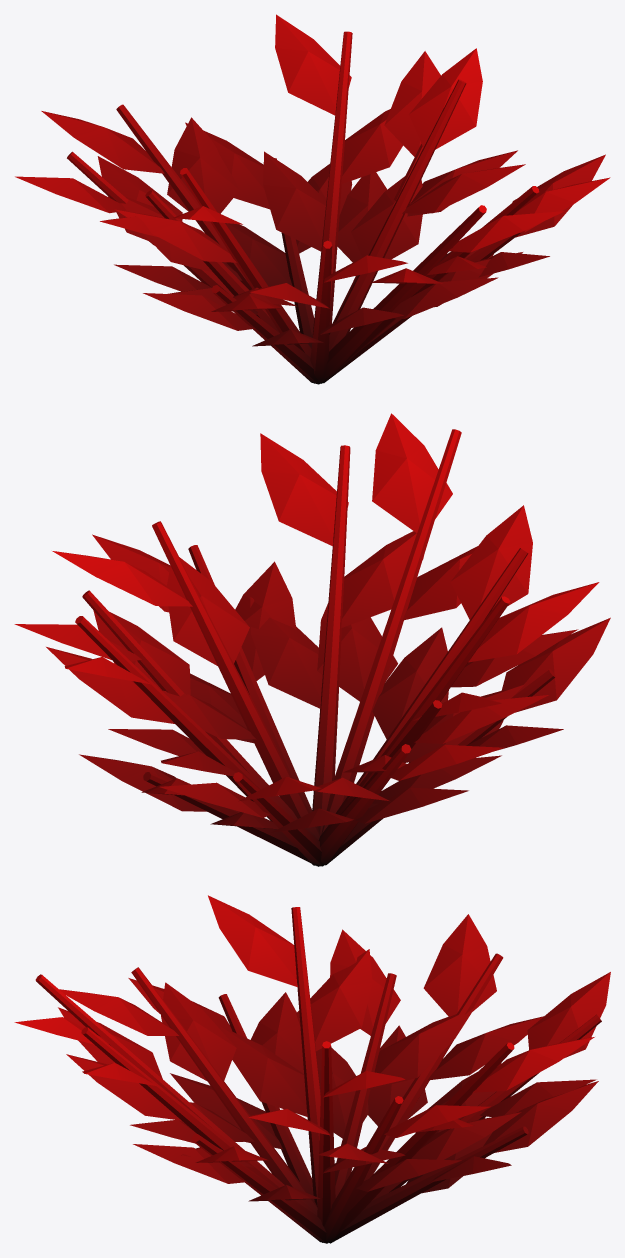
The model's file is SM_Alien06_LowShrub.fbx.
3 views of the same model, one above another, from view 1: azimuth 30°, elevation 25°; view 2: azimuth 150°, elevation 25°; view 3: azimuth 270°, elevation 25° (orthographic). The views are drawn at different scales.
Visible parts, largest first — view 1: SM_Alien06_LowShrub; view 2: SM_Alien06_LowShrub; view 3: SM_Alien06_LowShrub.
Boxes of the visible parts, bbox=[...] form: SM_Alien06_LowShrub: bbox=[15, 14, 610, 384]; SM_Alien06_LowShrub: bbox=[14, 413, 610, 866]; SM_Alien06_LowShrub: bbox=[14, 895, 610, 1243].
Bounding box in the file's own units: 97.9 × 105 × 53.78.
